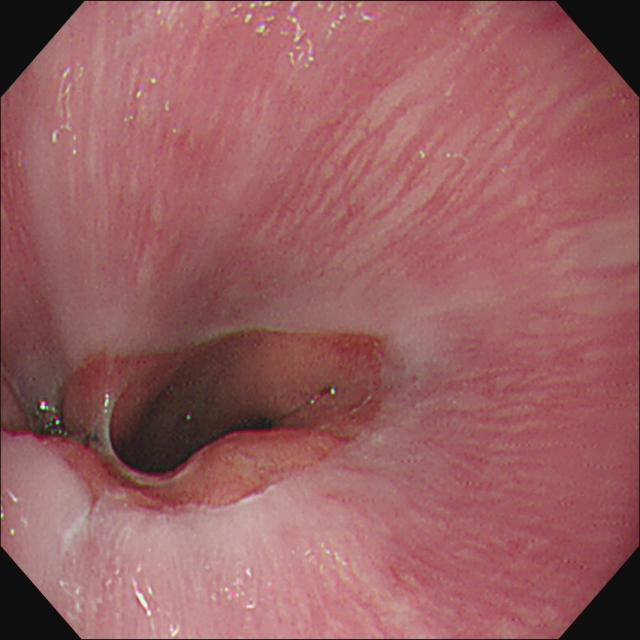I: (2, 305, 427, 548)
U: (229, 2, 385, 70), (51, 61, 84, 148), (209, 567, 259, 612), (131, 565, 159, 622), (39, 398, 67, 440), (102, 391, 114, 416)
